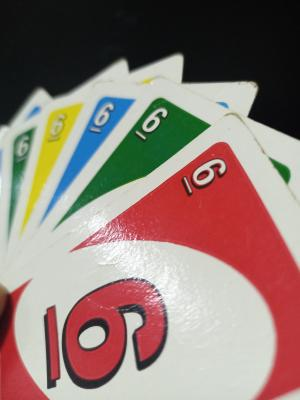num_6: (173, 154, 232, 201), (128, 102, 173, 145), (86, 94, 117, 140), (46, 110, 72, 146), (11, 130, 33, 167)
